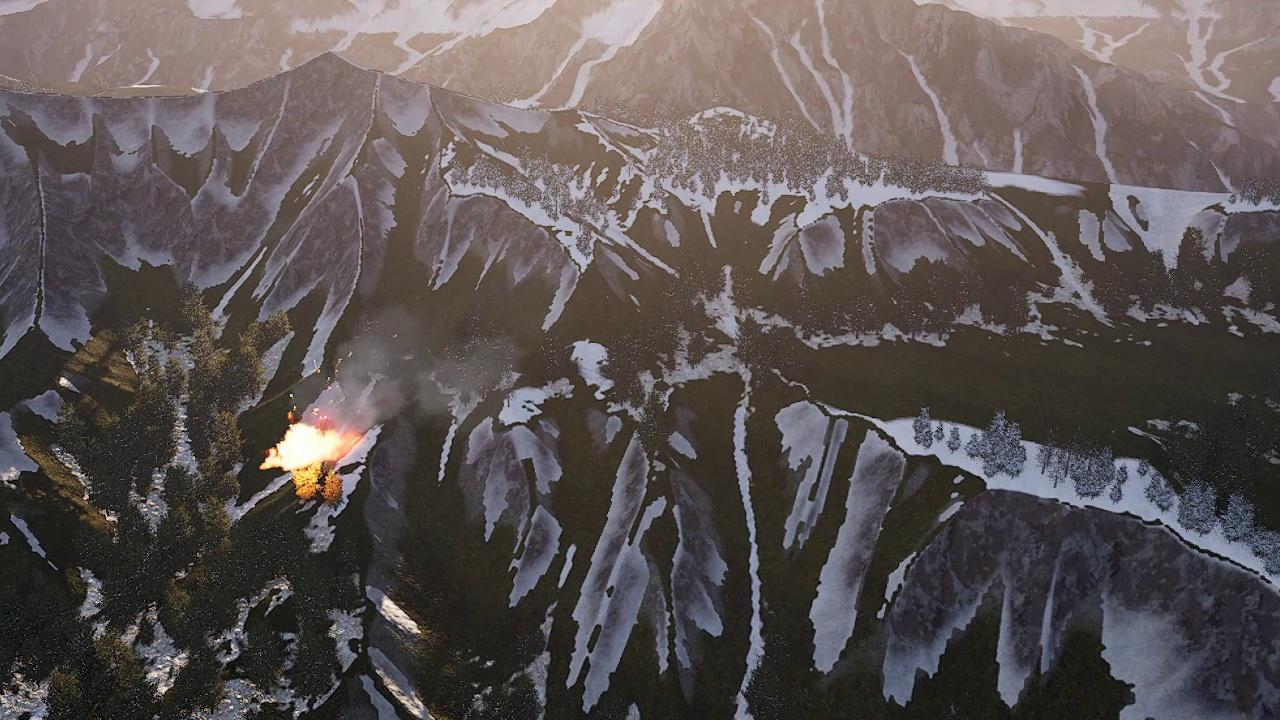fire: (263, 419, 351, 472)
smoke: (296, 292, 505, 427)
